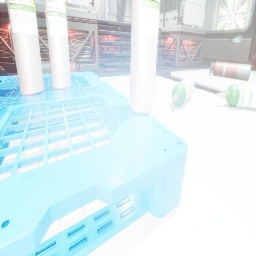0: (6, 0, 44, 96), (129, 0, 160, 114), (44, 0, 71, 89), (216, 84, 256, 109), (172, 77, 194, 107)
FireAlarm ,: (117, 0, 117, 1)
FireExtinguisher ]: (0, 66, 8, 76)
FirstAidBox ,: (105, 19, 107, 20)
NitrogenTank ,: (210, 61, 251, 81), (41, 61, 81, 74)
